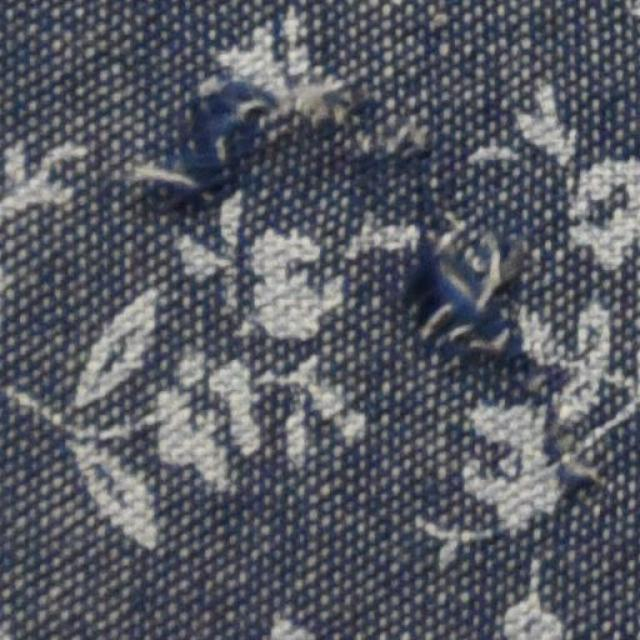Snag: (131, 59, 382, 221), (400, 217, 528, 361)
